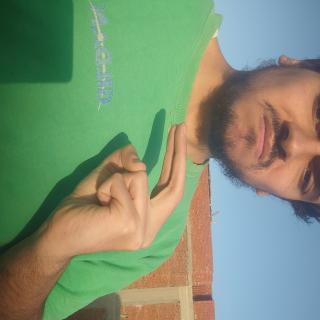ZAY: (91, 167, 212, 320)
